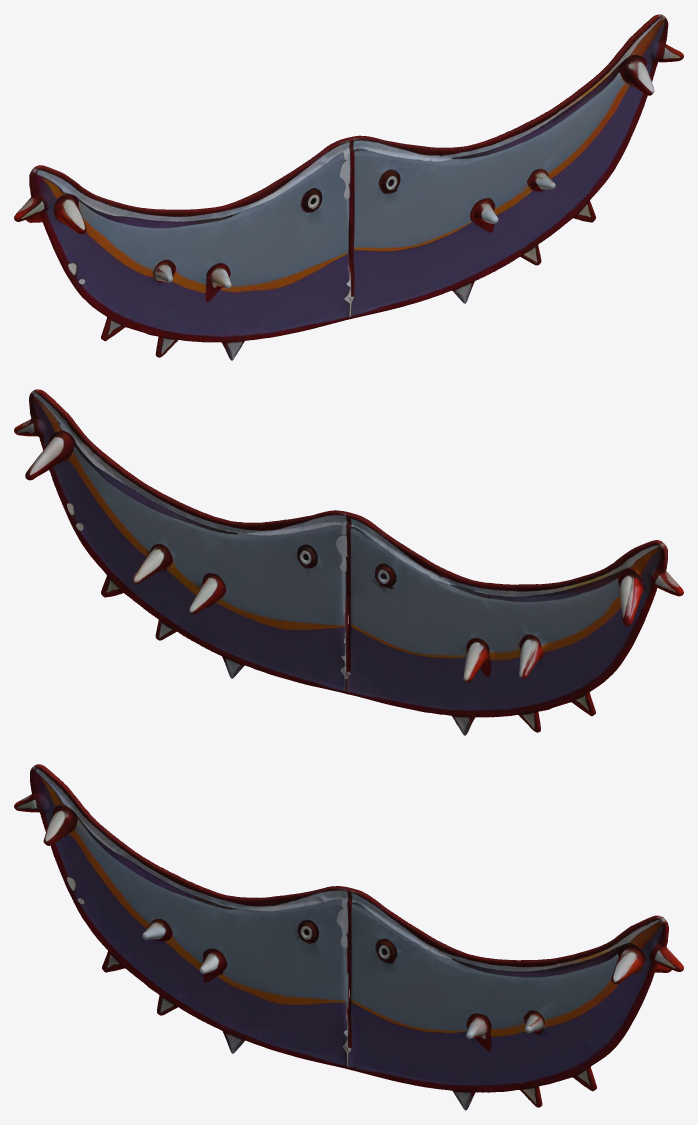
Rendered from 11_007_Mask_Studded.glb.
3 renders of one model, top to bottom at view 1: azimuth 30°, elevation 25°; view 2: azimuth 150°, elevation 25°; view 3: azimuth 330°, elevation 25°, orthographic.
Parts seen in each view (by area): view 1: tripo_node_c566e29e-ede5-4cbd-bce4-286d83aecdf7; view 2: tripo_node_c566e29e-ede5-4cbd-bce4-286d83aecdf7; view 3: tripo_node_c566e29e-ede5-4cbd-bce4-286d83aecdf7.
Part boxes in pixels (<box>): tripo_node_c566e29e-ede5-4cbd-bce4-286d83aecdf7: <box>14,14,683,360</box>; tripo_node_c566e29e-ede5-4cbd-bce4-286d83aecdf7: <box>14,389,683,735</box>; tripo_node_c566e29e-ede5-4cbd-bce4-286d83aecdf7: <box>14,764,683,1110</box>.
Size of the model in its own units: 1 by 0.3454 by 0.1082.
1 material, 1 textured.
